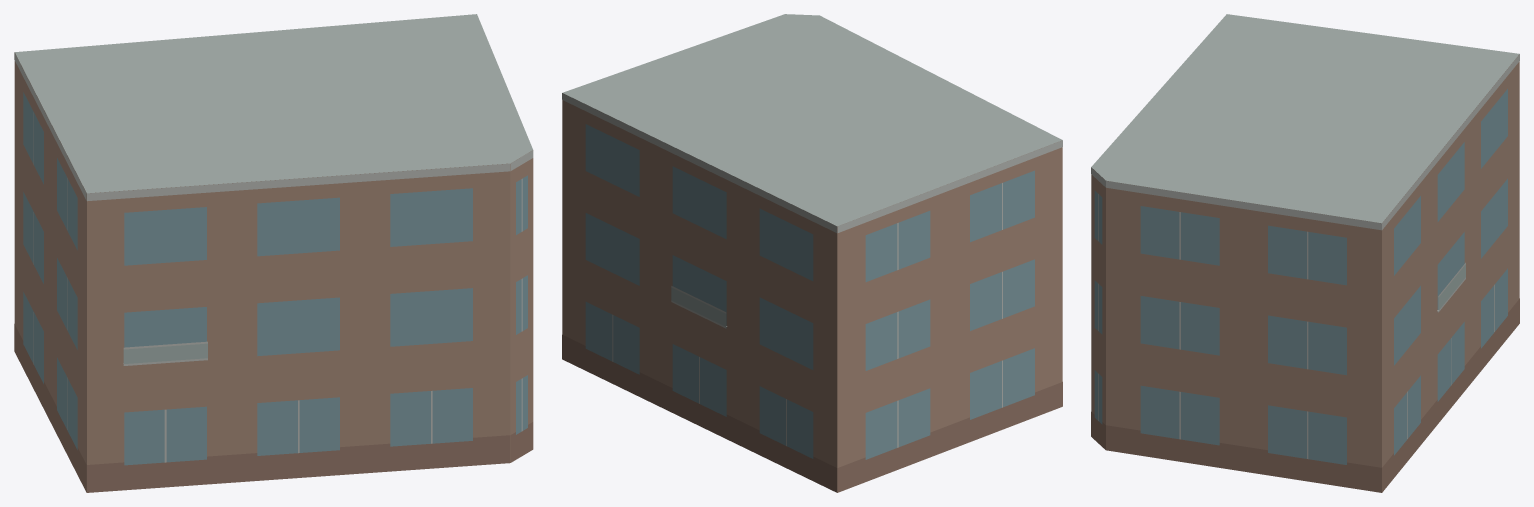
File: survey-upis-32828626.glb
3 views of the same model, side by side, from view 1: azimuth 30°, elevation 25°; view 2: azimuth 150°, elevation 25°; view 3: azimuth 270°, elevation 25° (orthographic). The views are drawn at different scales.
Visible parts, largest first — view 1: survey-upis-32828626.tmp; view 2: survey-upis-32828626.tmp; view 3: survey-upis-32828626.tmp.
Boxes of the visible parts, x1,y1,x2,y2 form: survey-upis-32828626.tmp: [14, 14, 533, 492]; survey-upis-32828626.tmp: [562, 14, 1062, 492]; survey-upis-32828626.tmp: [1091, 14, 1519, 492].
Size of the model in its own units: 15.49 by 9.3 by 13.41.
